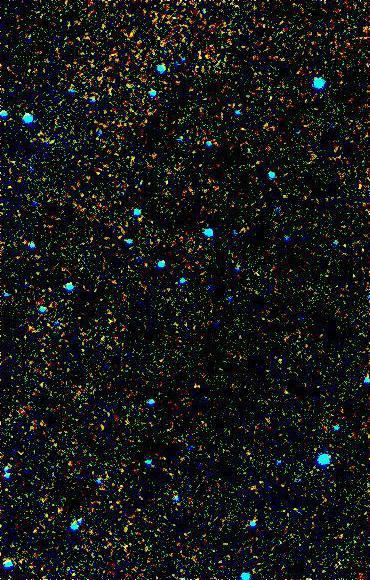star: (173, 371, 203, 401)
